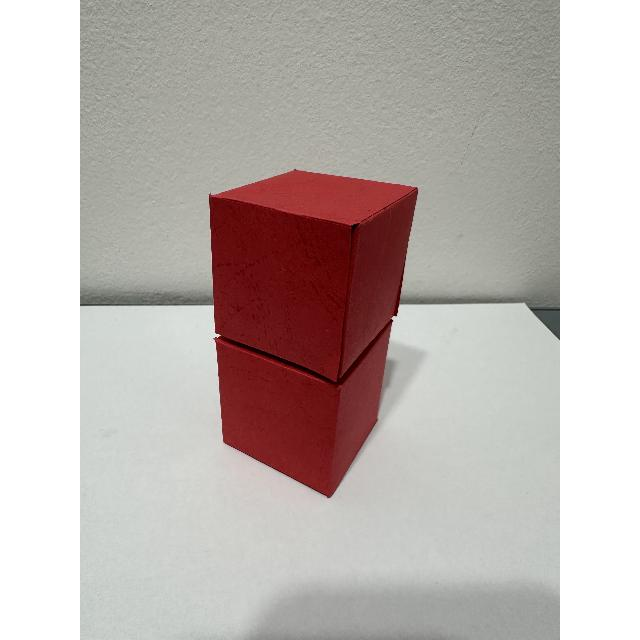red_cube: (193, 140, 434, 514)
